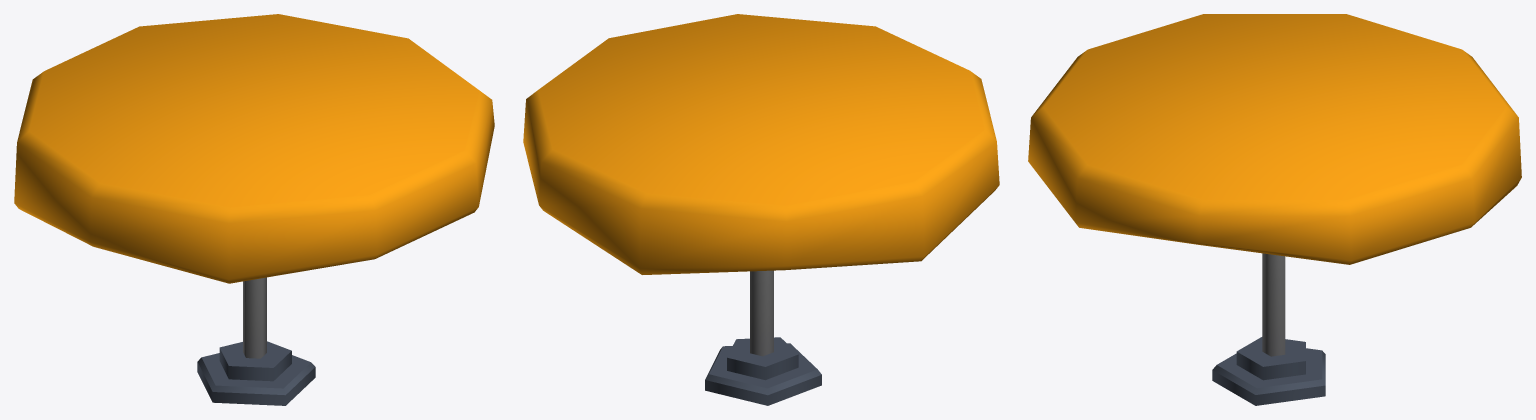
Rendered from Table_1_D.fbx.
3 renders of one model, left to right at view 1: azimuth 30°, elevation 25°; view 2: azimuth 150°, elevation 25°; view 3: azimuth 270°, elevation 25°, orthographic.
Parts seen in each view (by area): view 1: Table_1_D; view 2: Table_1_D; view 3: Table_1_D.
Part boxes in pixels (x1=…): Table_1_D: x1=14, y1=14, x2=494, y2=405; Table_1_D: x1=523, y1=14, x2=999, y2=405; Table_1_D: x1=1028, y1=14, x2=1521, y2=405.
Size of the model in its own units: 134 by 86.3 by 141.
